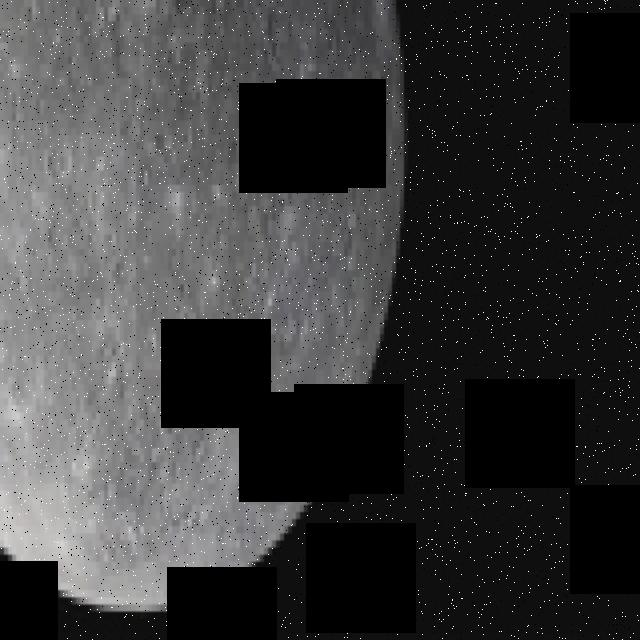Mercury: (0, 1, 412, 618)
